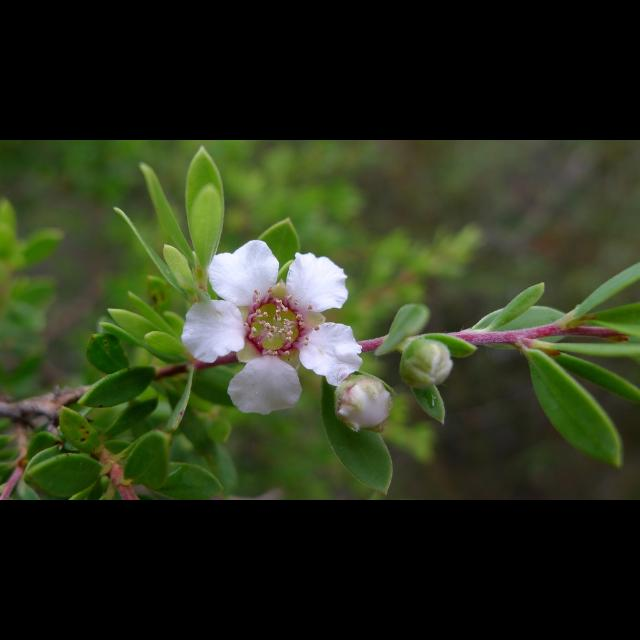Flower: (176, 238, 362, 416), (392, 334, 450, 394), (335, 377, 391, 437)
